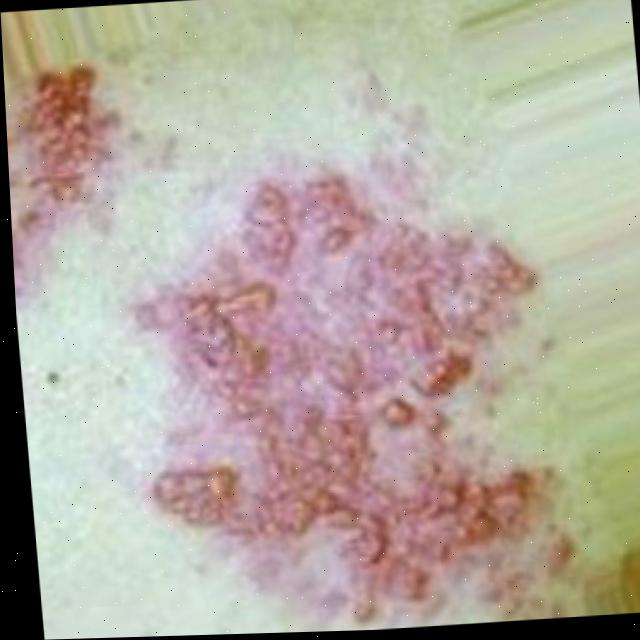Shingles: (113, 136, 588, 632), (3, 57, 124, 320)
